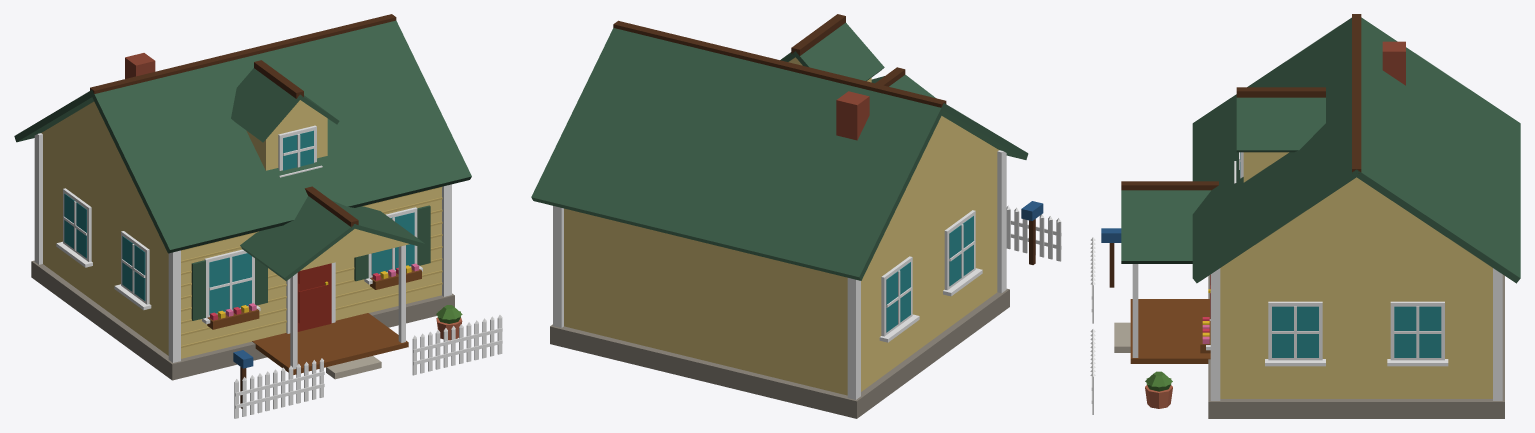
The model's file is Building_House.fbx.
3 renders of one model, left to right at view 1: azimuth 30°, elevation 25°; view 2: azimuth 150°, elevation 25°; view 3: azimuth 270°, elevation 25°, orthographic. The views are drawn at different scales.
Parts seen in each view (by area): view 1: Building_House; view 2: Building_House; view 3: Building_House.
Boxes of the visible parts, bbox=[...] form: Building_House: bbox=[14, 14, 502, 418]; Building_House: bbox=[531, 14, 1061, 418]; Building_House: bbox=[1090, 14, 1520, 418].
Size of the model in its own units: 7.8 by 6.03 by 9.14.
